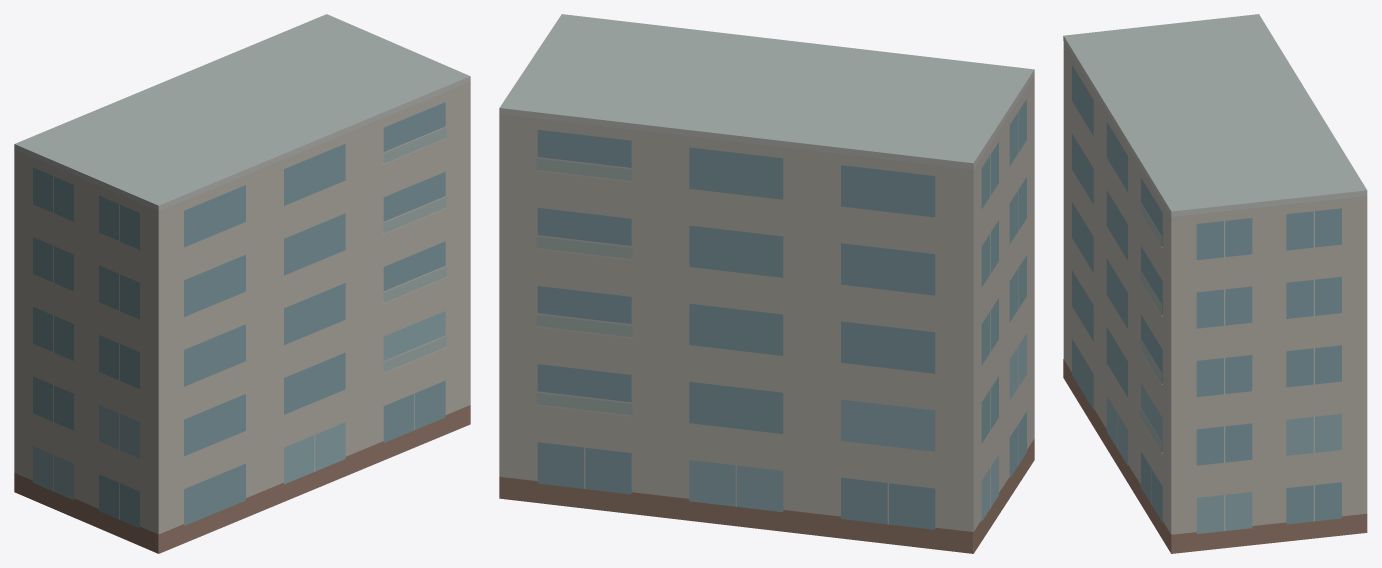
The model's file is survey-upis-33009819.glb.
3 renders of one model, left to right at view 1: azimuth 30°, elevation 25°; view 2: azimuth 150°, elevation 25°; view 3: azimuth 270°, elevation 25°, orthographic. The views are drawn at different scales.
Parts seen in each view (by area): view 1: survey-upis-33009819.tmp; view 2: survey-upis-33009819.tmp; view 3: survey-upis-33009819.tmp.
Boxes of the visible parts, left/top/right/bottom form: survey-upis-33009819.tmp: left=14, top=14, right=470, bottom=553; survey-upis-33009819.tmp: left=499, top=14, right=1034, bottom=553; survey-upis-33009819.tmp: left=1063, top=14, right=1367, bottom=553.
Size of the model in its own units: 19.18 by 15.5 by 12.47.
